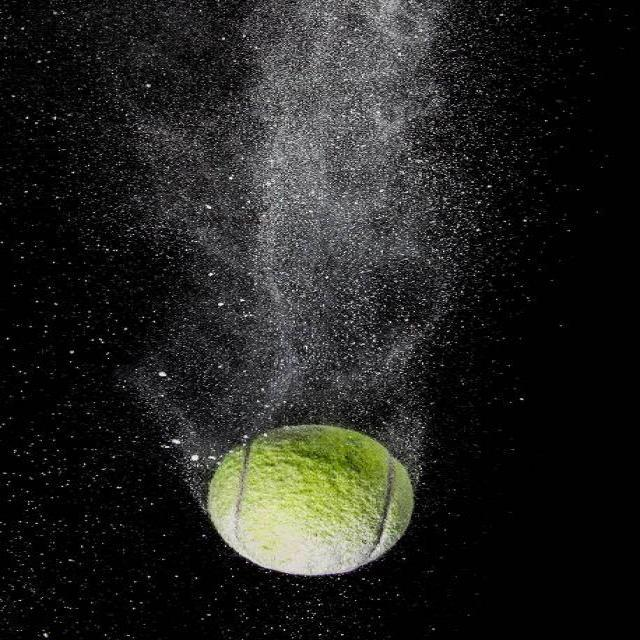tennis-ball: (205, 424, 413, 576)
